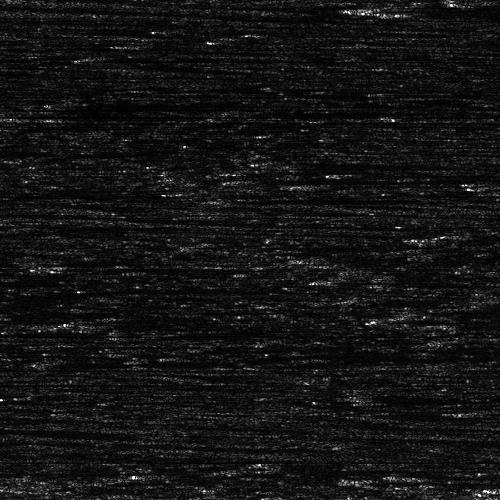rock: (343, 2, 416, 15), (0, 109, 59, 120), (50, 99, 113, 108), (218, 196, 281, 201), (305, 171, 346, 174)
shadow: (23, 109, 205, 120), (82, 99, 265, 108), (380, 2, 472, 15), (250, 196, 444, 201), (326, 171, 500, 174)
